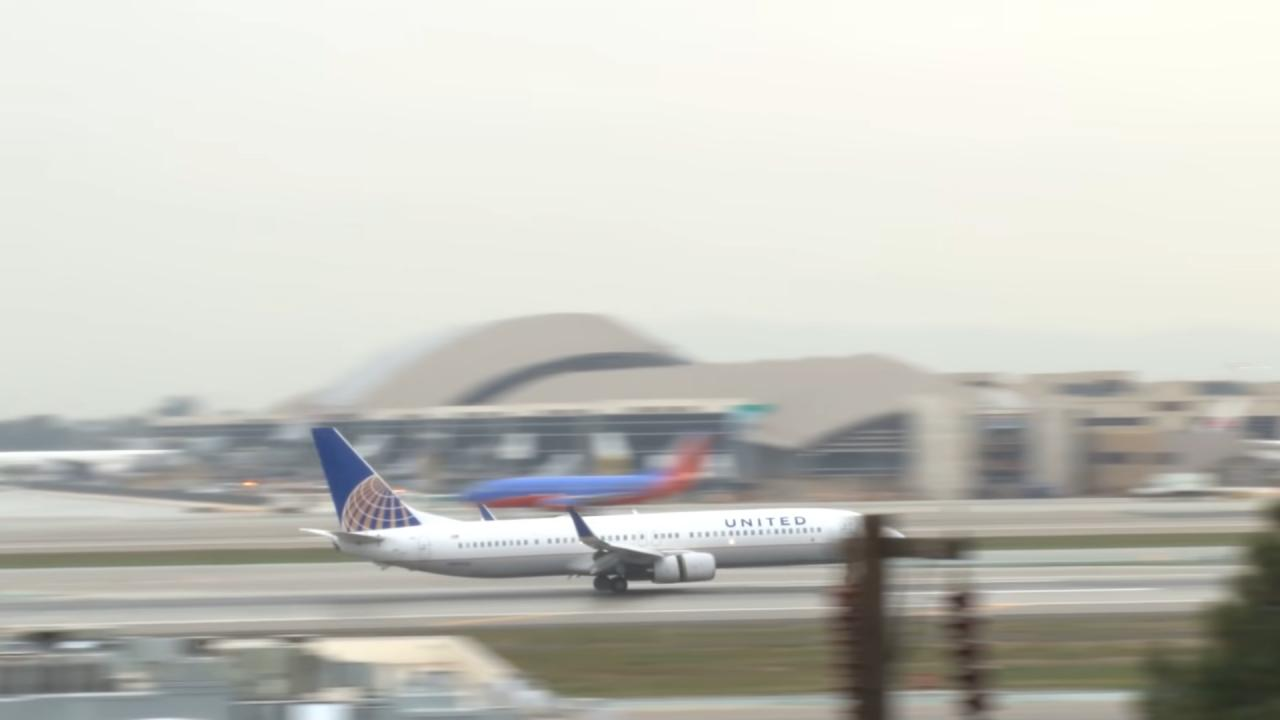Airplane: (283, 414, 923, 608)
